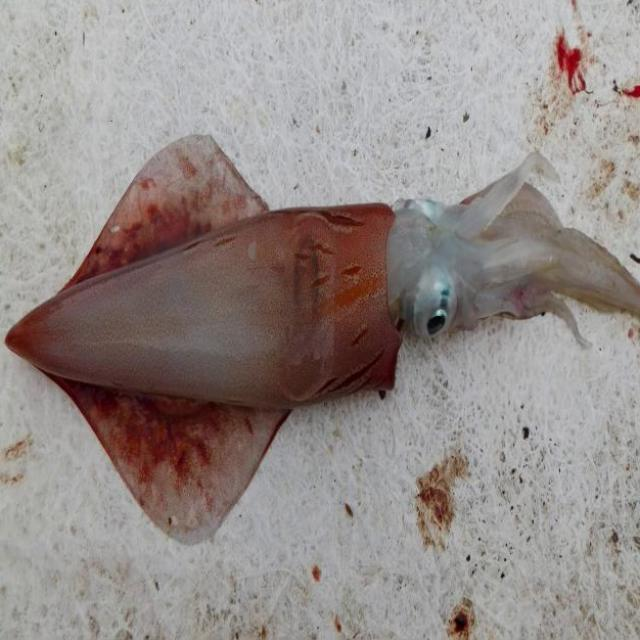SQUID: (0, 121, 640, 557)
